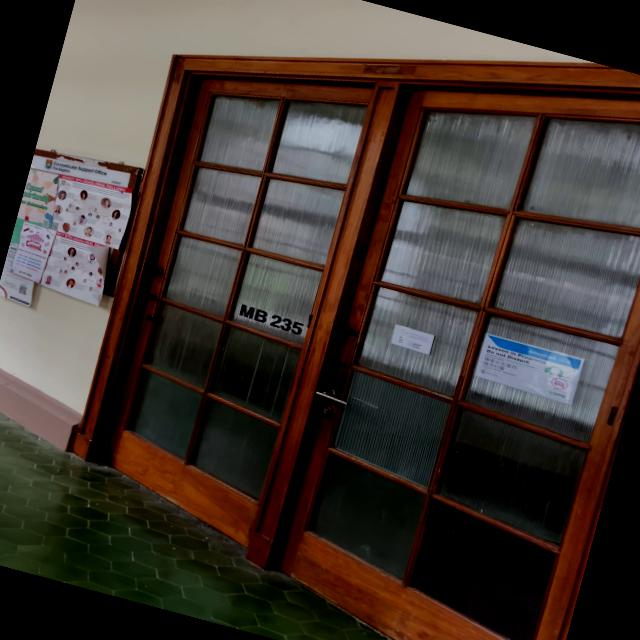room235Window: (236, 303, 306, 337)
